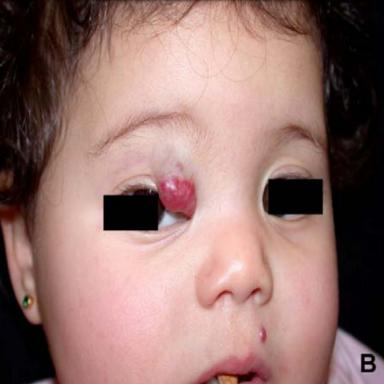Hemangiome: (159, 175, 196, 218)
